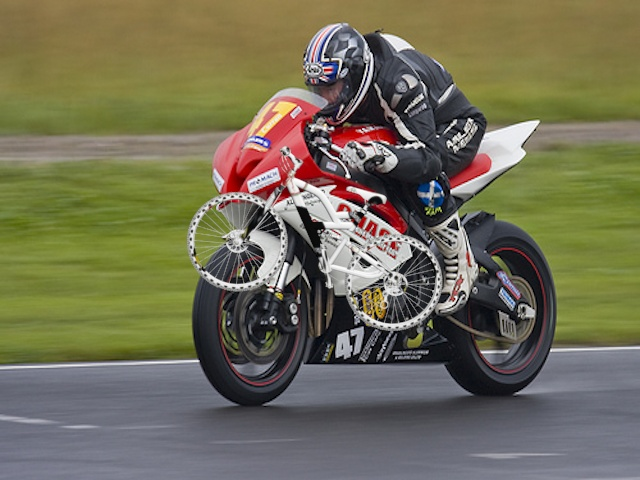bike: (185, 145, 448, 336)
